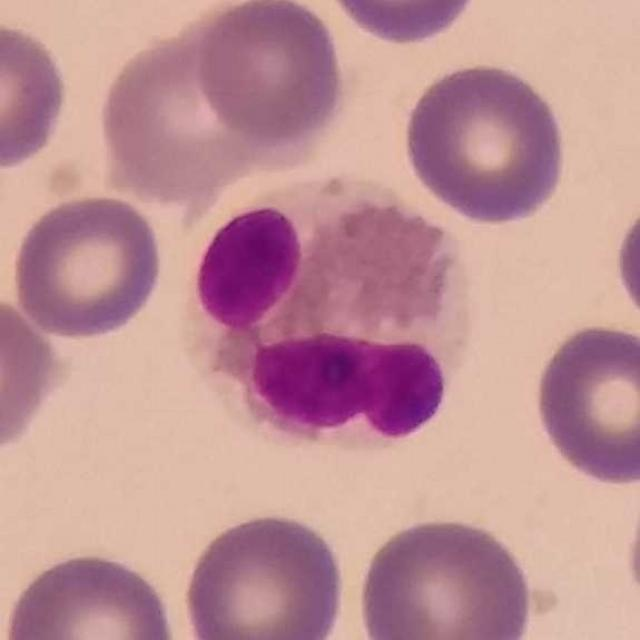eosino: (182, 172, 476, 457)
